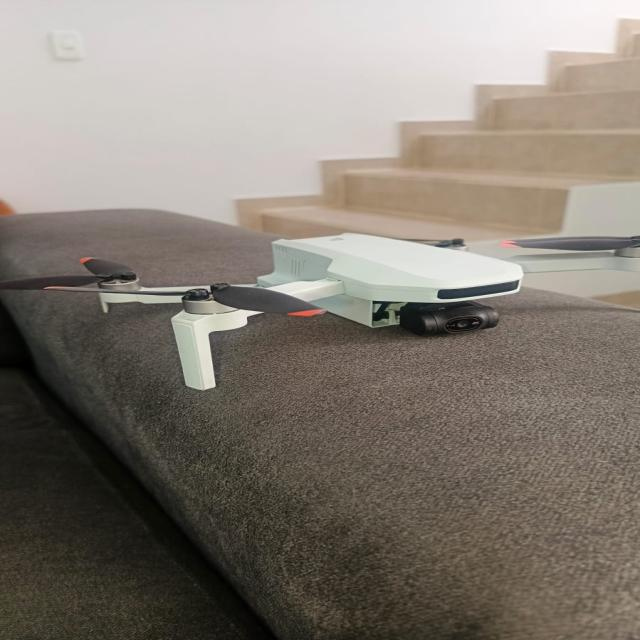dron: (14, 199, 640, 394)
